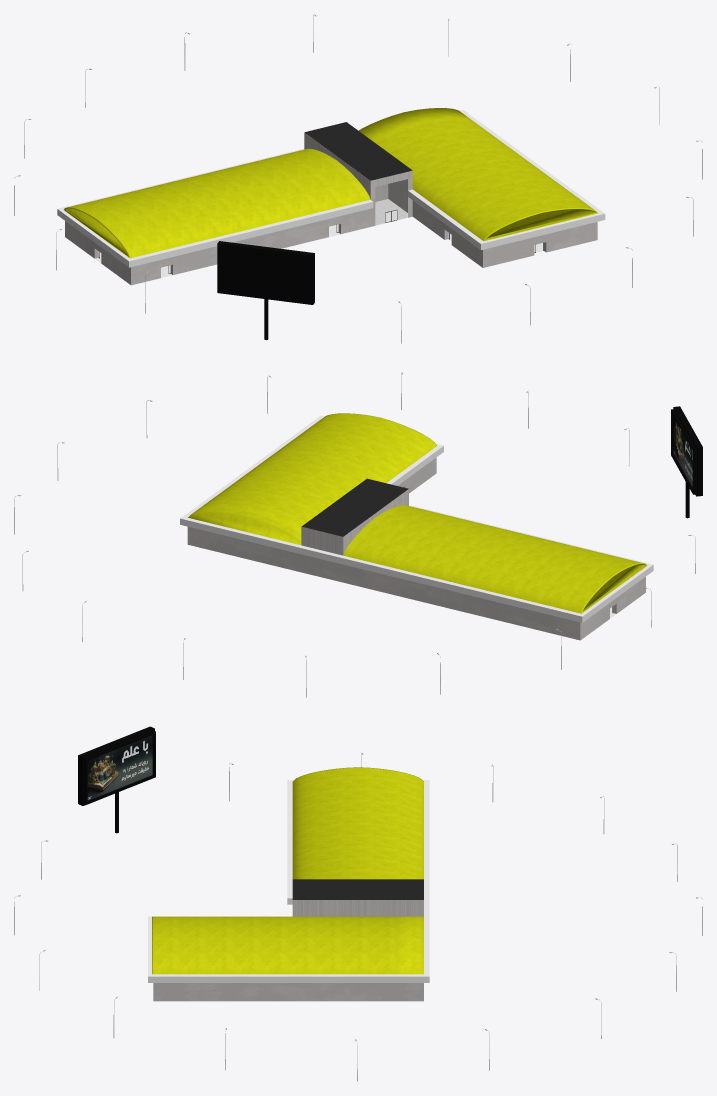
The model's file is Namayeshgah.gltf.
3 renders of one model, top to bottom at view 1: azimuth 30°, elevation 25°; view 2: azimuth 150°, elevation 25°; view 3: azimuth 270°, elevation 25°, orthographic.
Parts seen in each view (by area): view 1: West Roof, East Roof, Main Wall, Roof Border, Big_Banner_Frame, Flat Roof, Roof Wall, Ground, Glass Door, Lamp; view 2: West Roof, East Roof, Main Wall, Roof Border, Flat Roof, Roof Wall, Big_Banner_Frame, Big_Banner_Screen, Lamp; view 3: East Roof, West Roof, Main Wall, Roof Border, Flat Roof, Big_Banner_Screen, Roof Wall, Big_Banner_Frame, Lamp.
Part boxes in pixels (x1,y1,x2,y2): West Roof: (64,148,370,258); East Roof: (358,108,597,241); Main Wall: (65,177,597,285); Roof Border: (57,110,605,267); Big_Banner_Frame: (217,241,314,304); Flat Roof: (305,122,412,180); Roof Wall: (304,132,412,199); Ground: (95,199,543,277); Glass Door: (375,191,407,224); Lamp: (14,14,702,343); West Roof: (343,505,646,613); East Roof: (188,413,436,545); Main Wall: (187,457,645,640); Roof Border: (180,415,653,622); Flat Roof: (302,478,408,536); Roof Wall: (301,489,408,555); Big_Banner_Frame: (671,406,702,496); Big_Banner_Screen: (673,417,692,486); Lamp: (14,372,695,697); East Roof: (152,916,423,974); West Roof: (292,767,423,879); Main Wall: (153,983,423,1001); Roof Border: (148,780,429,982); Flat Roof: (292,879,423,899); Big_Banner_Screen: (87,735,152,800); Roof Wall: (292,900,423,916); Big_Banner_Frame: (78,726,155,805); Lamp: (14,753,702,1081).
Size of the model in its own units: 150 by 21.72 by 150.
Materials: 11 (5 with a texture image).
